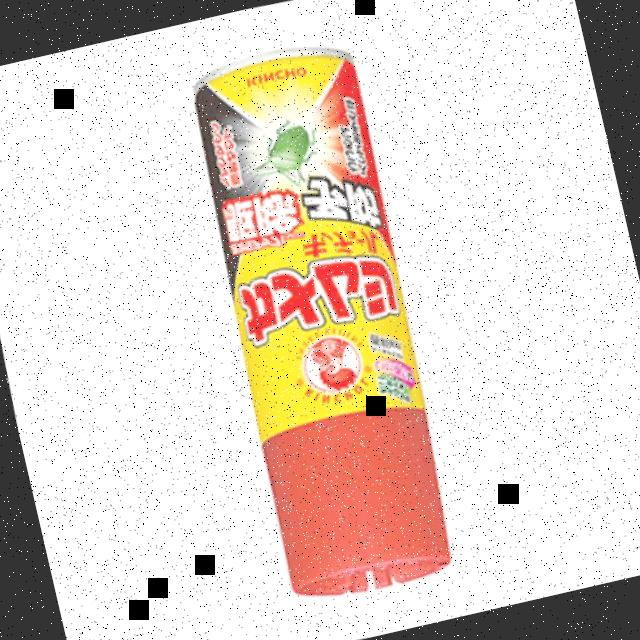chemical_spray_can: (112, 0, 508, 640)
